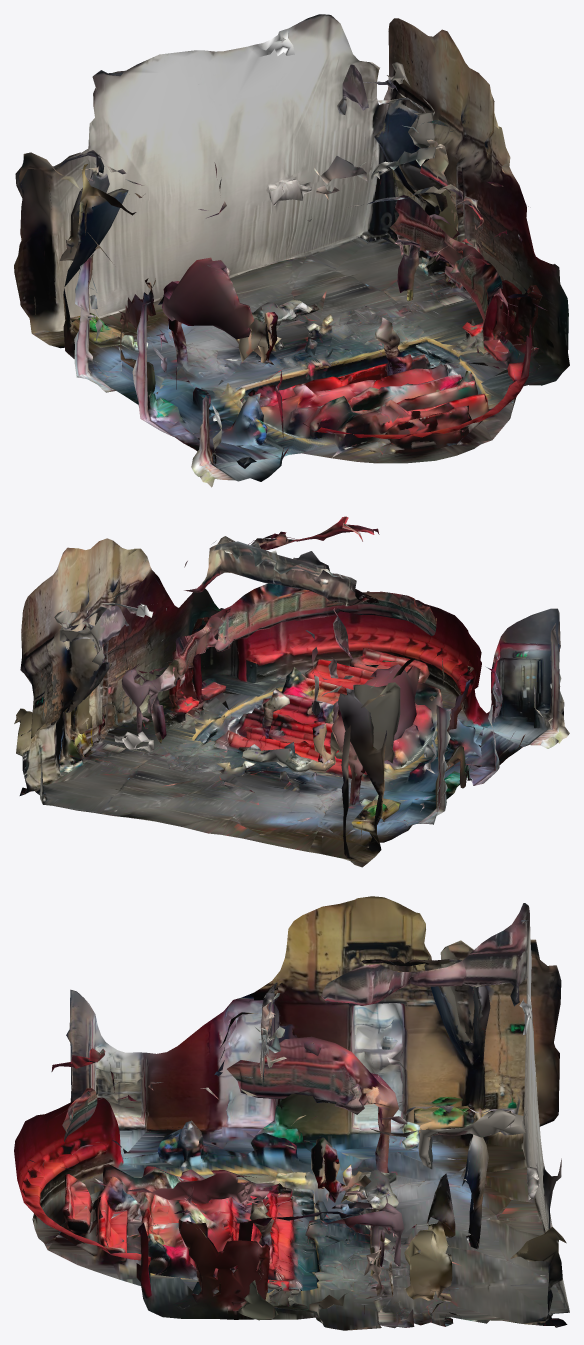
Rendered from Egg.glb.
3 views of the same model, one above another, from view 1: azimuth 30°, elevation 25°; view 2: azimuth 150°, elevation 25°; view 3: azimuth 270°, elevation 25° (orthographic). The views are drawn at different scales.
Parts seen in each view (by area): view 1: NewEgg; view 2: NewEgg; view 3: NewEgg.
Part boxes in pixels (x1,y1,x2,y2): NewEgg: (14, 14, 569, 487); NewEgg: (14, 516, 569, 867); NewEgg: (14, 896, 569, 1330).
Bounding box in the file's own units: 12 × 7.58 × 13.24.
1 material, 1 textured.
